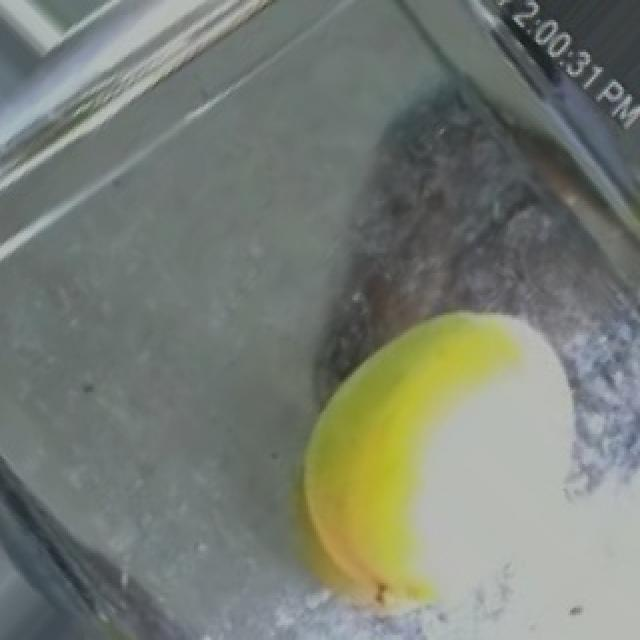fruit: (246, 250, 594, 640)
